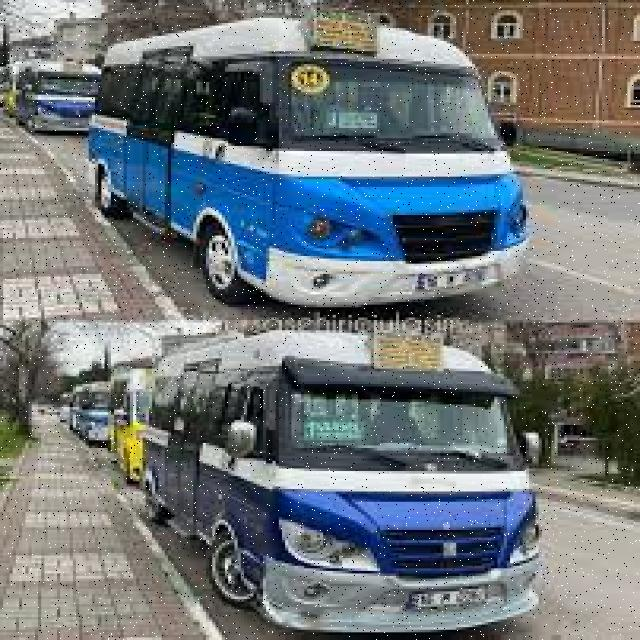bus: (89, 13, 529, 307), (143, 333, 538, 634), (16, 62, 101, 130), (111, 369, 155, 481)
